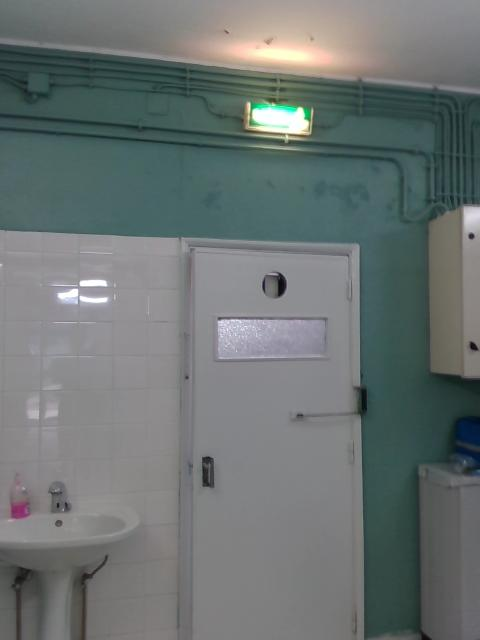door: (191, 247, 352, 640)
